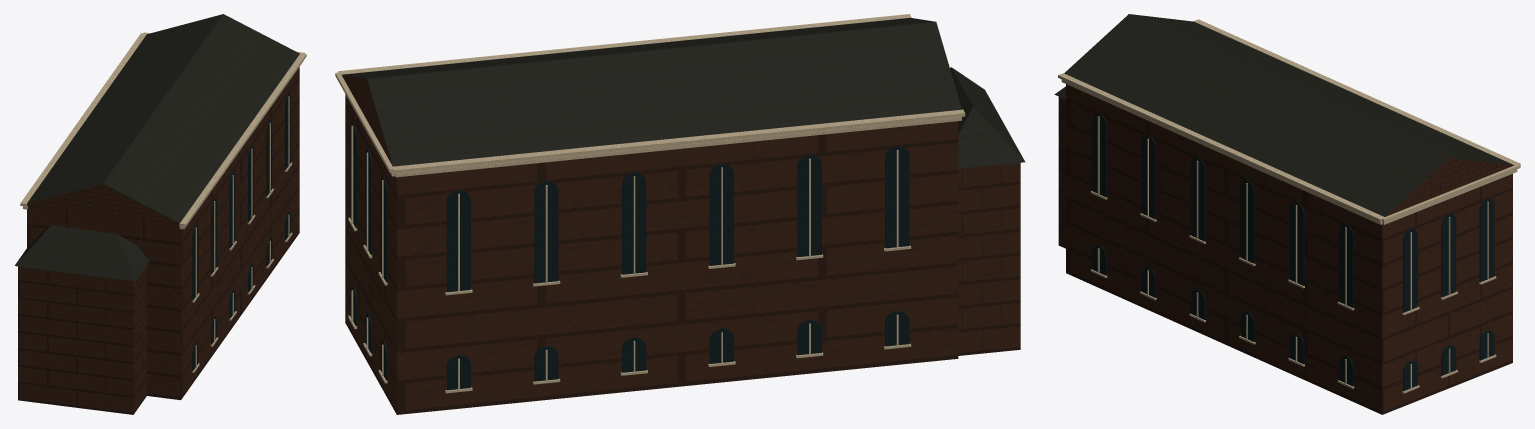
3 views of the same model, side by side, from view 1: azimuth 30°, elevation 25°; view 2: azimuth 150°, elevation 25°; view 3: azimuth 270°, elevation 25° (orthographic). The views are drawn at different scales.
Parts seen in each view (by area): view 1: synagoge-botersloot-0, synagoge-botersloot-1, synagoge-botersloot-3, synagoge-botersloot-2; view 2: synagoge-botersloot-0, synagoge-botersloot-1, synagoge-botersloot-2, synagoge-botersloot-3; view 3: synagoge-botersloot-0, synagoge-botersloot-1, synagoge-botersloot-2, synagoge-botersloot-3.
Boxes of the visible parts, <box> form: synagoge-botersloot-0: <box>18,67,299,414</box>; synagoge-botersloot-1: <box>14,14,299,280</box>; synagoge-botersloot-3: <box>20,32,306,372</box>; synagoge-botersloot-2: <box>192,93,290,370</box>; synagoge-botersloot-0: <box>341,74,1020,414</box>; synagoge-botersloot-1: <box>342,17,1025,168</box>; synagoge-botersloot-2: <box>350,121,909,390</box>; synagoge-botersloot-3: <box>335,14,965,393</box>; synagoge-botersloot-0: <box>1058,84,1513,414</box>; synagoge-botersloot-1: <box>1054,14,1513,216</box>; synagoge-botersloot-2: <box>1092,113,1494,391</box>; synagoge-botersloot-3: <box>1058,19,1520,393</box>.
Size of the model in its own units: 39.48 by 20 by 36.41.
4 materials, 4 textured.
